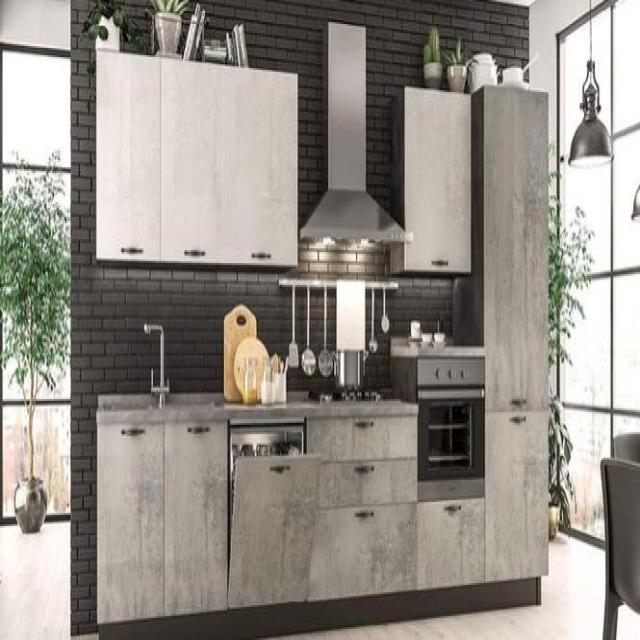dishwasher: (226, 410, 321, 605)
